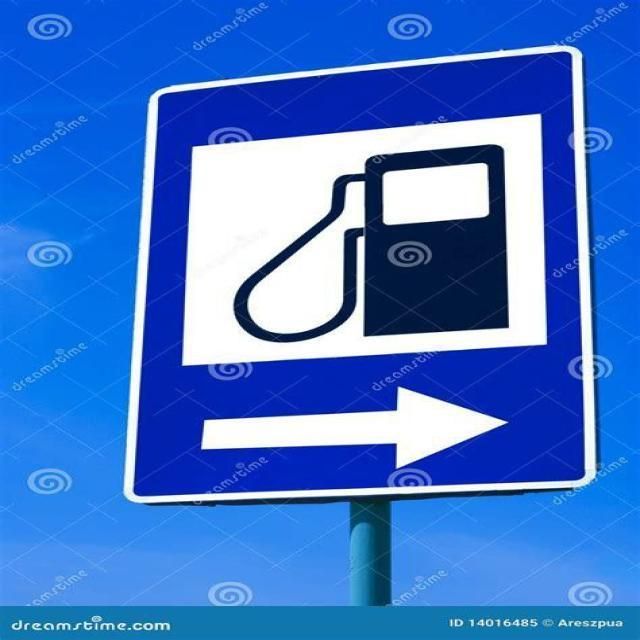petrol pump ahead: (136, 48, 600, 493)
